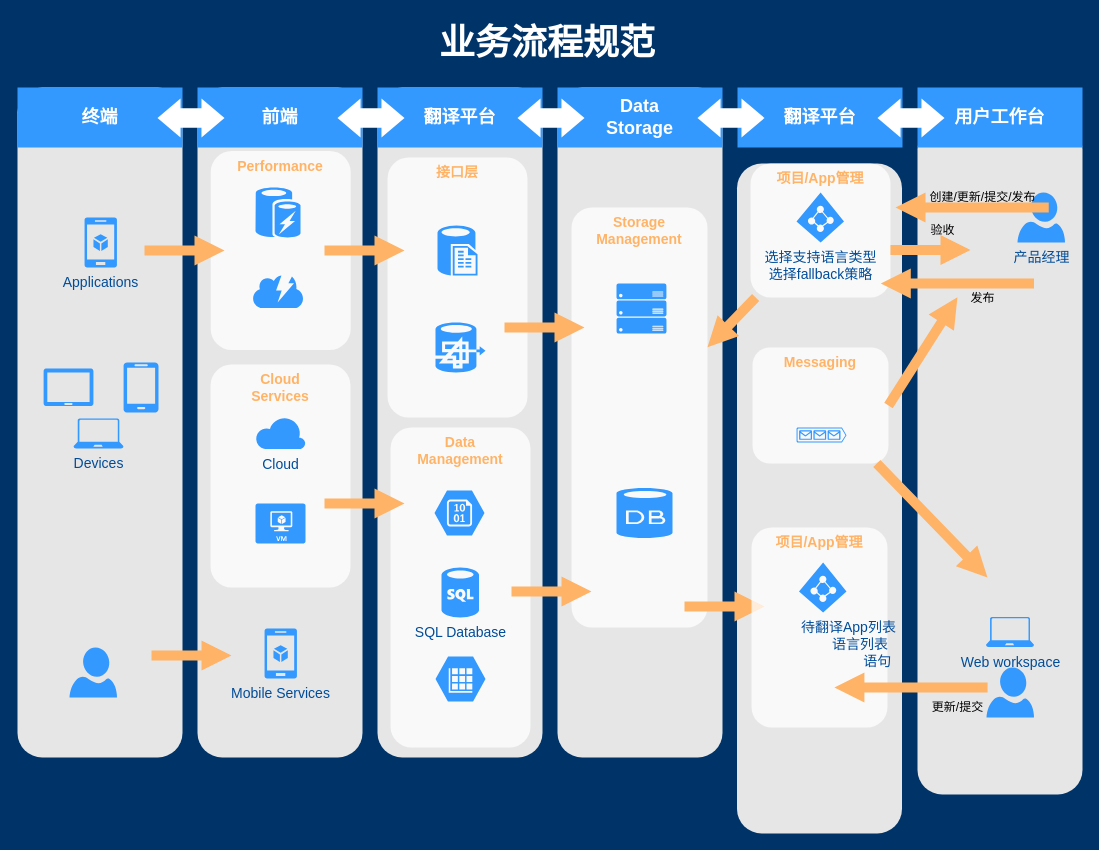
This 1099x850 diagram has some shape labels left out. The centre of each missing label's shape, as x and y in pixels:
Blobs: the point at 459,512
Caching: the point at 277,212
Content Delivery Network: the point at 277,291
Database: the point at 644,513
HDInsight: the point at 460,347
OSS Servers: the point at 641,308
SQL Reporting: the point at 457,250
Tables: the point at 460,678
Virtual Machine: the point at 280,523
用户: the point at 92,672
短信通知: the point at 821,434
翻译人员: the point at 1010,692
